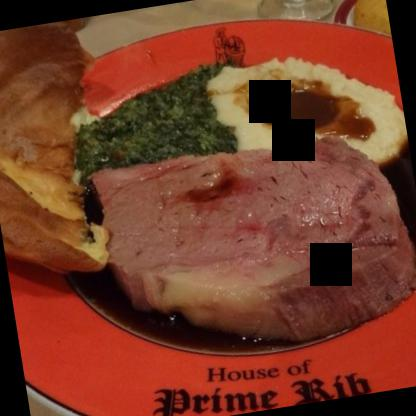beef: (87, 119, 415, 364)
